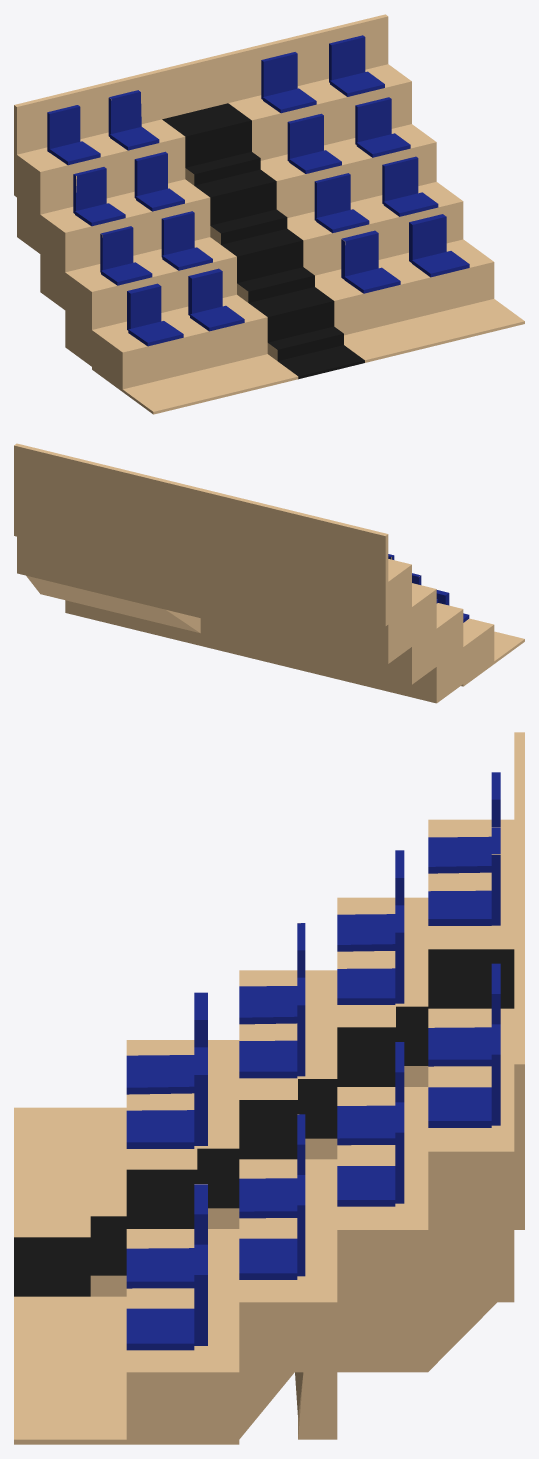
The model's file is Arquibancada.FBX.
The picture shows the model from 3 angles, top to bottom: view 1: azimuth 30°, elevation 25°; view 2: azimuth 150°, elevation 25°; view 3: azimuth 270°, elevation 25°; orthographic projection. The views are drawn at different scales.
Parts seen in each view (by area): view 1: Box001; view 2: Box001; view 3: Box001.
Boxes of the visible parts, bbox=[...] form: Box001: bbox=[14, 14, 524, 414]; Box001: bbox=[14, 443, 524, 703]; Box001: bbox=[14, 732, 524, 1444].
Bounding box in the file's own units: 114 × 60.74 × 73.98.
